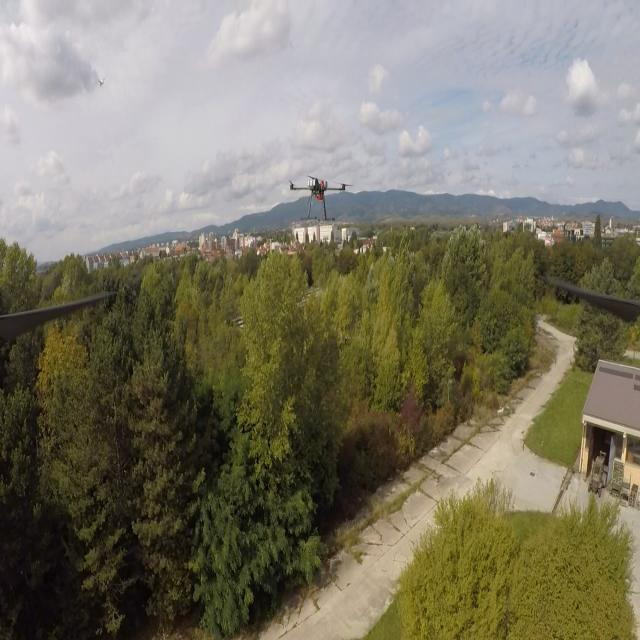UAV: (286, 173, 354, 230)
